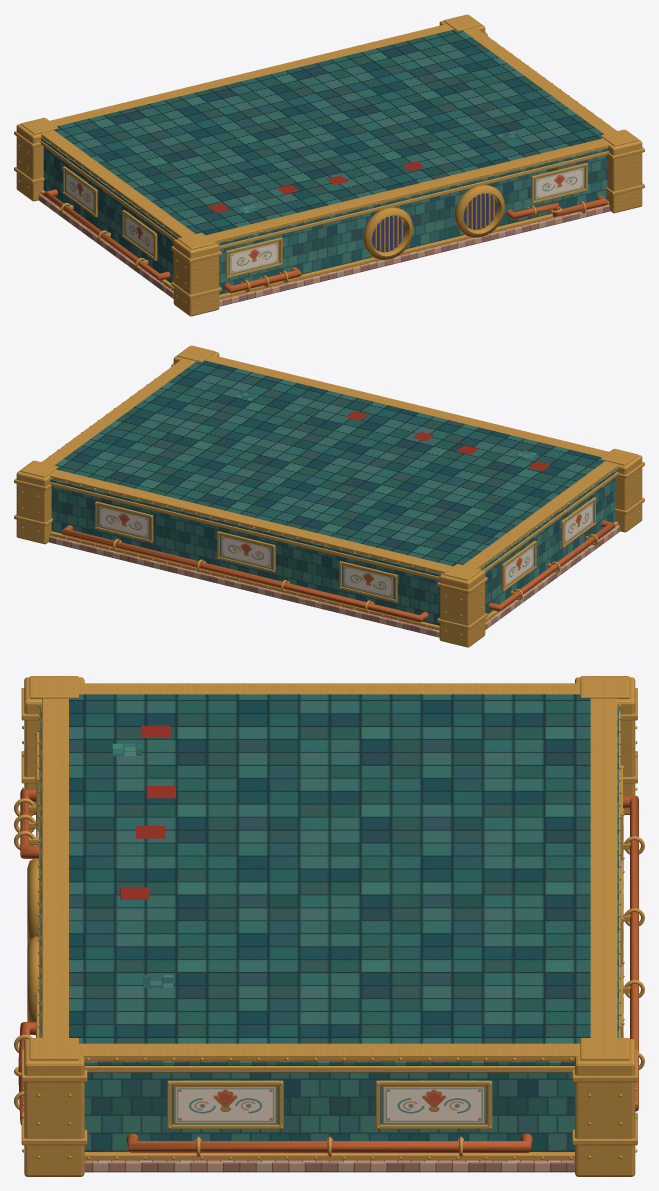
File: act2_celadon_base_v4.glb
3 views of the same model, one above another, from view 1: azimuth 30°, elevation 25°; view 2: azimuth 150°, elevation 25°; view 3: azimuth 270°, elevation 25° (orthographic). The views are drawn at different scales.
Visible parts, largest first — view 1: SM_Act2_CeladonBaseV4_Mesh; view 2: SM_Act2_CeladonBaseV4_Mesh; view 3: SM_Act2_CeladonBaseV4_Mesh.
Part boxes in pixels (x1,y1,x2,y2): SM_Act2_CeladonBaseV4_Mesh: [14, 14, 644, 316]; SM_Act2_CeladonBaseV4_Mesh: [14, 345, 644, 647]; SM_Act2_CeladonBaseV4_Mesh: [14, 676, 644, 1176].
Bounding box in the file's own units: 12.11 × 1.68 × 8.17.
Materials: 8 (6 with a texture image).
